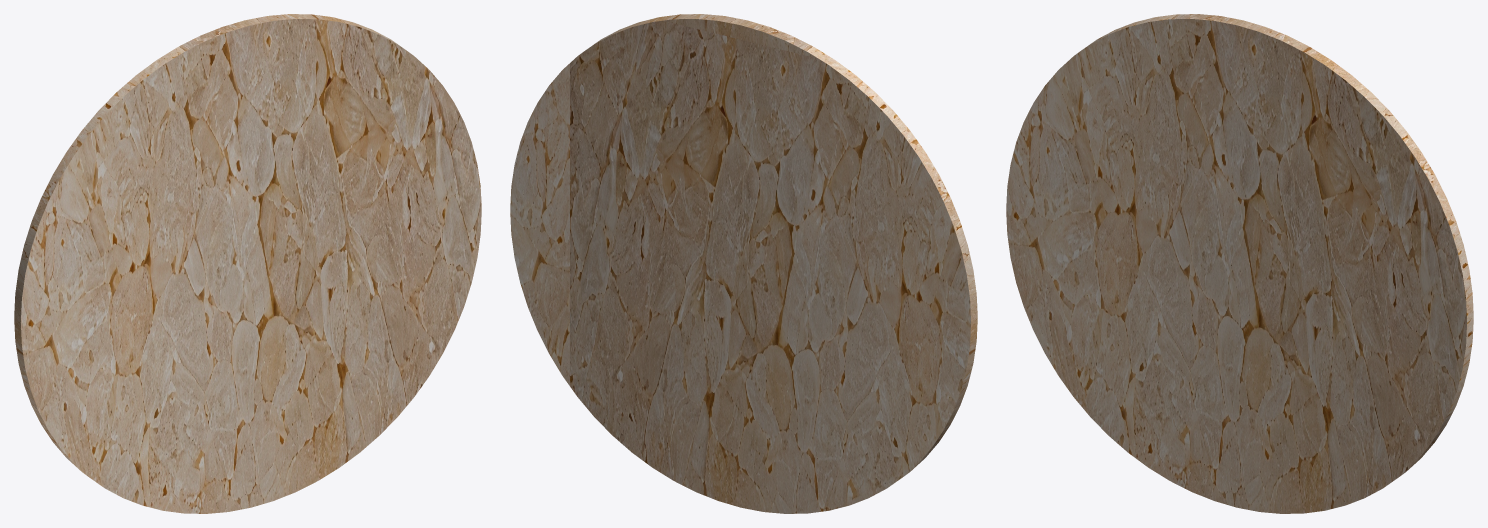
The model's file is circle-mobile.glb.
3 renders of one model, left to right at view 1: azimuth 30°, elevation 25°; view 2: azimuth 150°, elevation 25°; view 3: azimuth 330°, elevation 25°, orthographic.
Visible parts, largest first — view 1: TIME STONE product — approximate hidden surfaces; view 2: TIME STONE product — approximate hidden surfaces; view 3: TIME STONE product — approximate hidden surfaces.
Part boxes in pixels (x1,y1,x2,y2): TIME STONE product — approximate hidden surfaces: [14, 14, 481, 513]; TIME STONE product — approximate hidden surfaces: [510, 14, 977, 513]; TIME STONE product — approximate hidden surfaces: [1006, 14, 1473, 513].
Bounding box in the file's own units: 1.2 × 1.2 × 0.03.
Materials: 3 (3 with a texture image).
